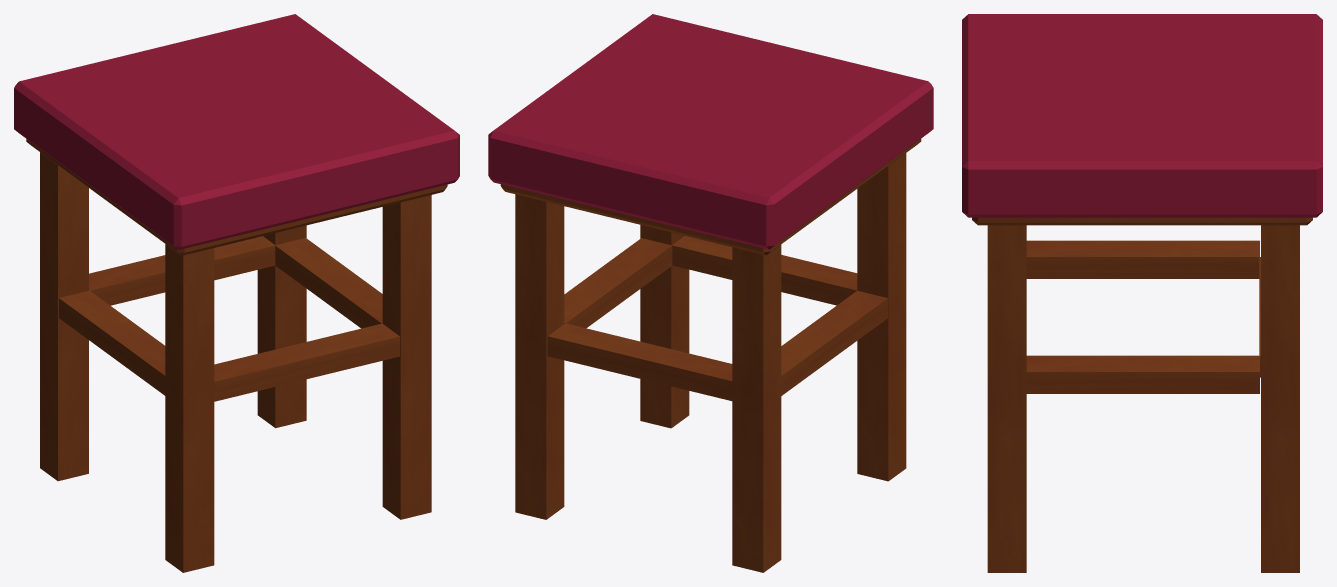
The model's file is kitchen stool textured.fbx.
The picture shows the model from 3 angles, left to right: view 1: azimuth 30°, elevation 25°; view 2: azimuth 150°, elevation 25°; view 3: azimuth 270°, elevation 25°; orthographic projection. The views are drawn at different scales.
Visible parts, largest first — view 1: Cushion, Leg 4.001, Leg 1.002, Leg 3.001, Leg Support 2, Leg 2.002, Leg Support 3, Leg Support 1, Leg Support 4, Seat support; view 2: Cushion, Leg 3.001, Leg 2.002, Leg 4.001, Leg Support 4, Leg 1.002, Leg Support 3, Leg Support 1, Leg Support 2, Seat support; view 3: Cushion, Leg 1.002, Leg 2.002, Leg Support 3, Leg Support 1, Seat support.
Part boxes in pixels (x1,y1,x2,y2): Cushion: (14, 14, 459, 249); Leg 4.001: (165, 244, 214, 572); Leg 1.002: (382, 195, 431, 519); Leg 3.001: (40, 152, 88, 481); Leg Support 2: (214, 323, 399, 401); Leg 2.002: (257, 225, 306, 428); Leg Support 3: (59, 290, 165, 395); Leg Support 1: (275, 238, 382, 328); Leg Support 4: (89, 236, 275, 305); Seat support: (26, 139, 447, 255); Cushion: (488, 14, 933, 249); Leg 3.001: (732, 244, 781, 572); Leg 2.002: (515, 194, 564, 519); Leg 4.001: (857, 153, 906, 481); Leg Support 4: (547, 323, 732, 400); Leg 1.002: (640, 225, 689, 428); Leg Support 3: (781, 290, 887, 395); Leg Support 1: (564, 238, 672, 328); Leg Support 2: (672, 235, 857, 305); Seat support: (500, 139, 921, 255); Cushion: (962, 14, 1322, 217); Leg 1.002: (987, 225, 1026, 572); Leg 2.002: (1261, 225, 1299, 572); Leg Support 3: (1026, 240, 1259, 278); Leg Support 1: (1026, 355, 1259, 393); Seat support: (972, 217, 1312, 225).
Size of the model in its own units: 757 by 971 by 757.
